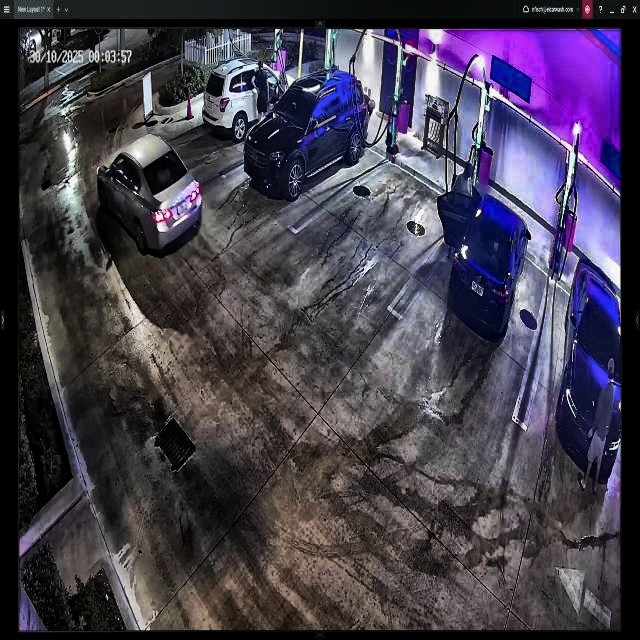Car: (243, 68, 369, 195), (441, 181, 531, 332), (96, 135, 202, 254)
